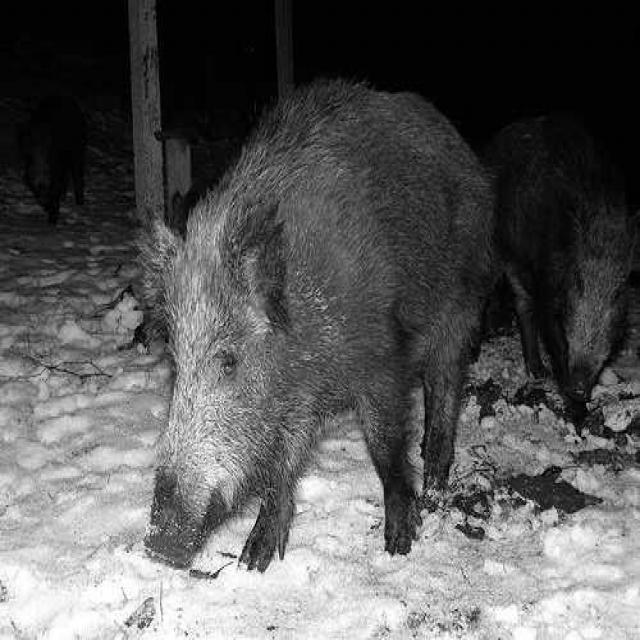boar: (143, 80, 488, 567), (490, 111, 631, 408)
